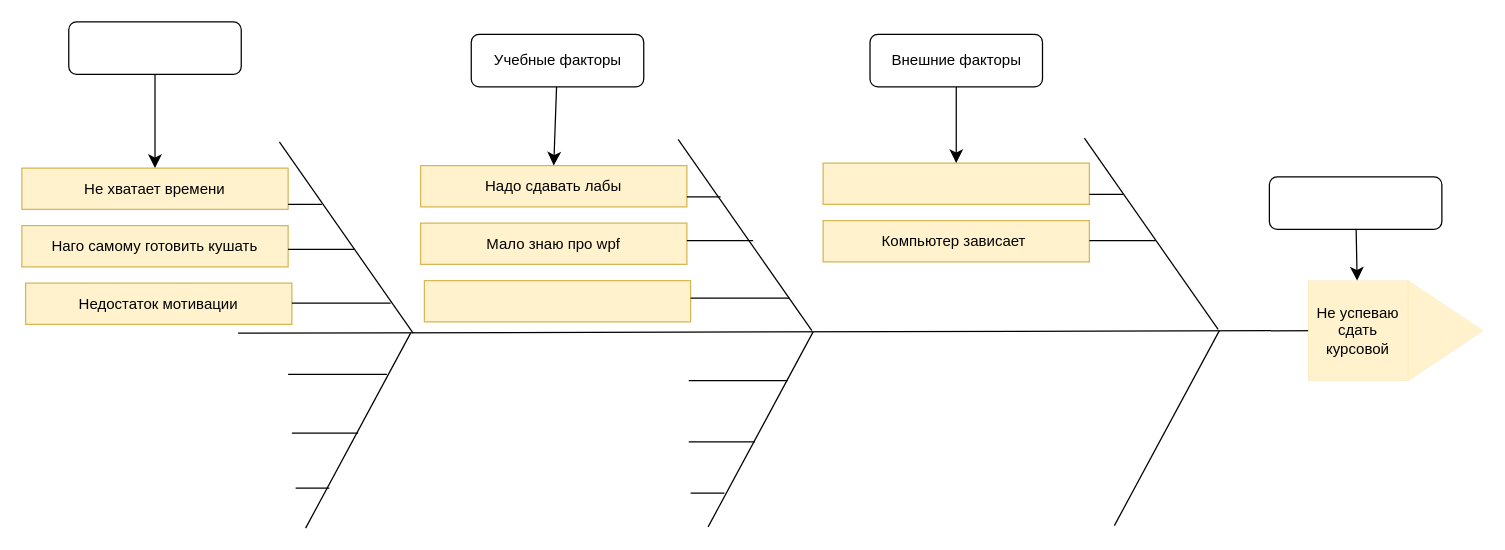
The diagram is 1505 pixels wide and 550 high, and some of its shapes have lost their labels. The shapes that lost their labels are listed below. From the top down, each one's centre as x and y in pixels, then its label:
At pixel 154 47: "Личные факторы".
At pixel 955 183: "Мало гайдов".
At pixel 1355 202: "Проблема".
At pixel 557 300: "Много время забирают лекции".
